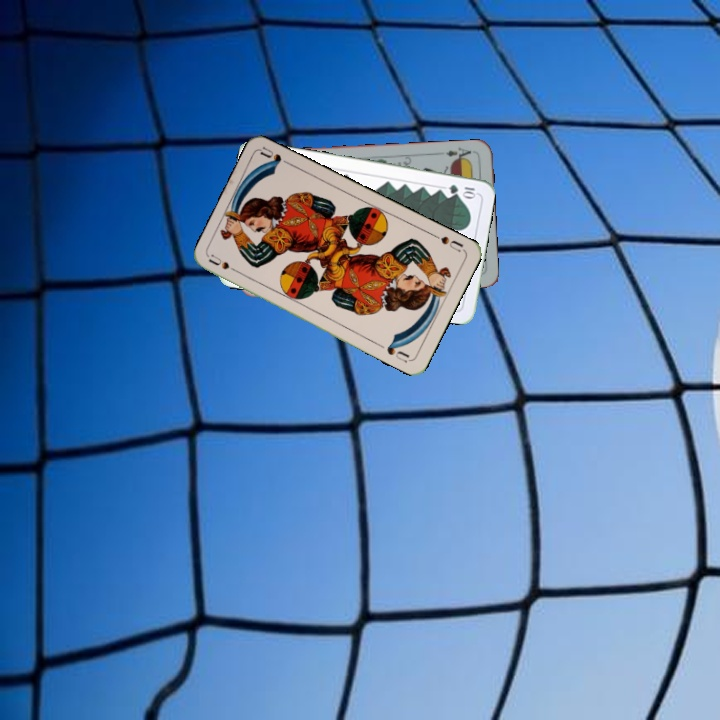EA: (442, 143, 473, 163)
G10: (444, 180, 478, 199)
SU: (205, 250, 244, 277), (428, 230, 466, 255)
